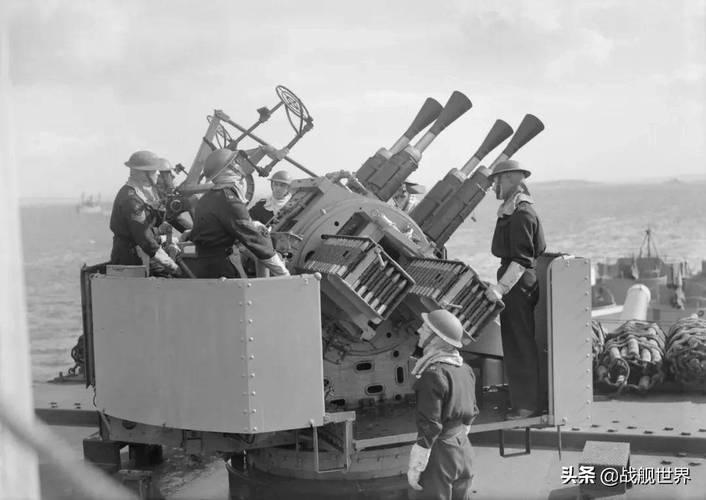MIL_SPG: (81, 91, 593, 480)
